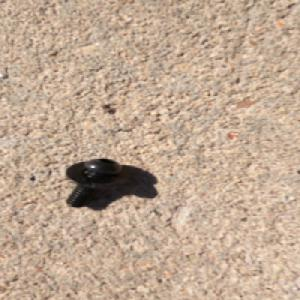BoltWasher: (64, 157, 132, 208)
